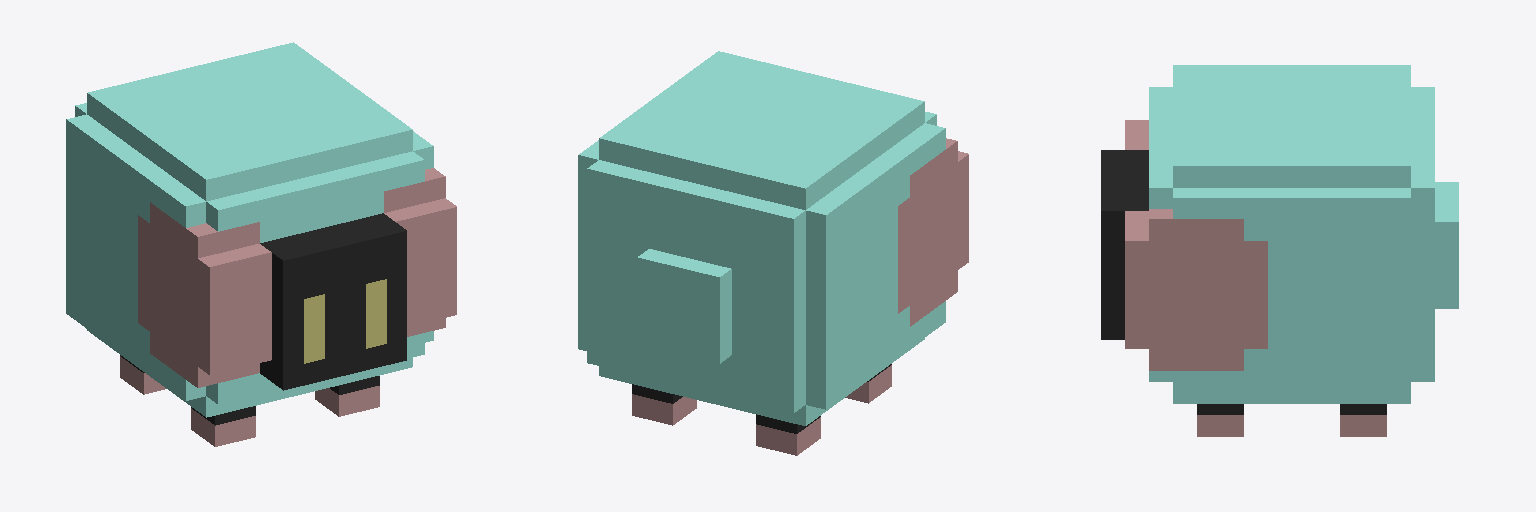
The picture shows the model from 3 angles: view 1: azimuth 30°, elevation 25°; view 2: azimuth 150°, elevation 25°; view 3: azimuth 270°, elevation 25°; orthographic projection.
Parts seen in each view (by area): view 1: object 1; view 2: object 1; view 3: object 1.
Boxes of the visible parts, x1,y1,x2,y2 form: object 1: [66, 42, 456, 446]; object 1: [578, 51, 968, 455]; object 1: [1101, 65, 1458, 436].
Size of the model in its own units: 1.2 by 1.3 by 1.5.
1 materials, 1 textured.